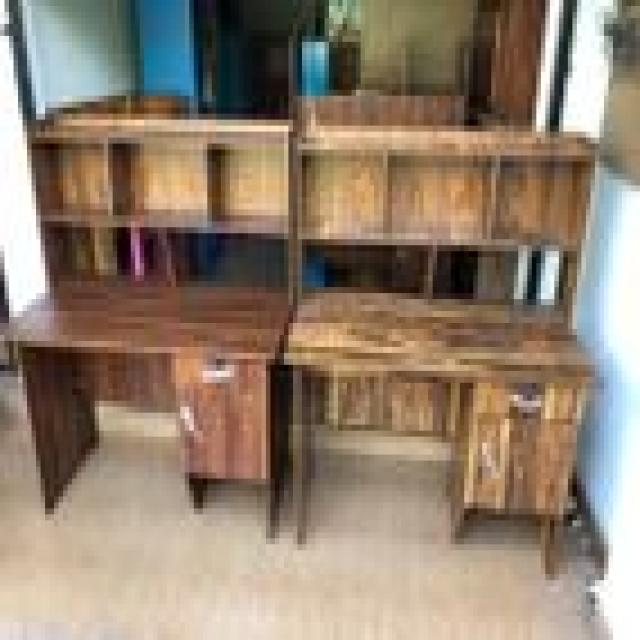others: (4, 6, 608, 580)
